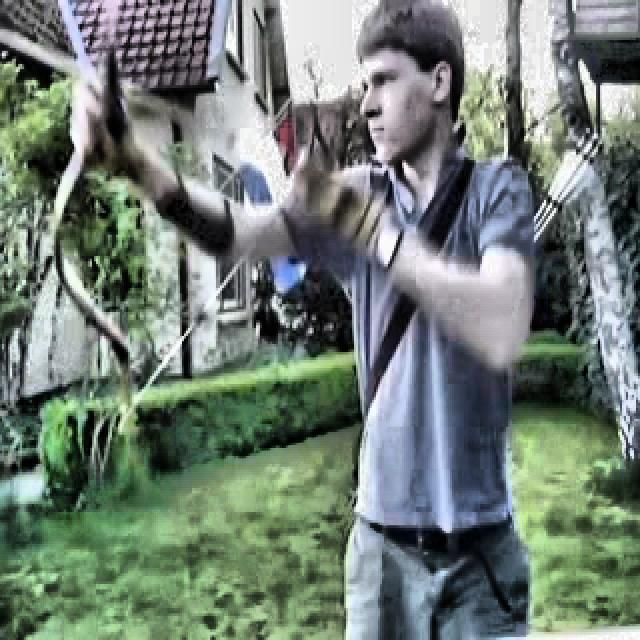P: (71, 6, 533, 634)
